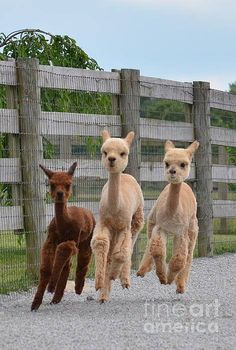alpaca: (29, 162, 96, 311), (136, 139, 198, 296), (90, 129, 144, 302)
